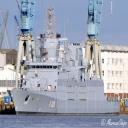Fragata: (5, 34, 124, 117)
